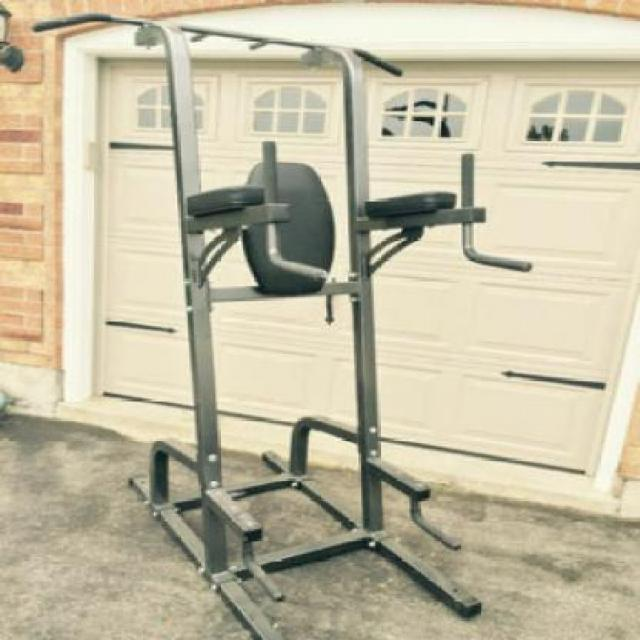chinning dipping: (32, 10, 535, 640)
